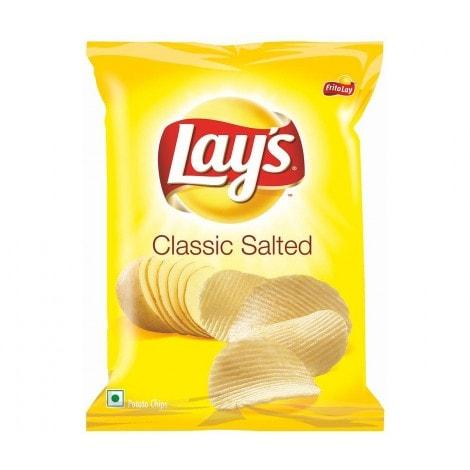Lays: (81, 37, 389, 432)
